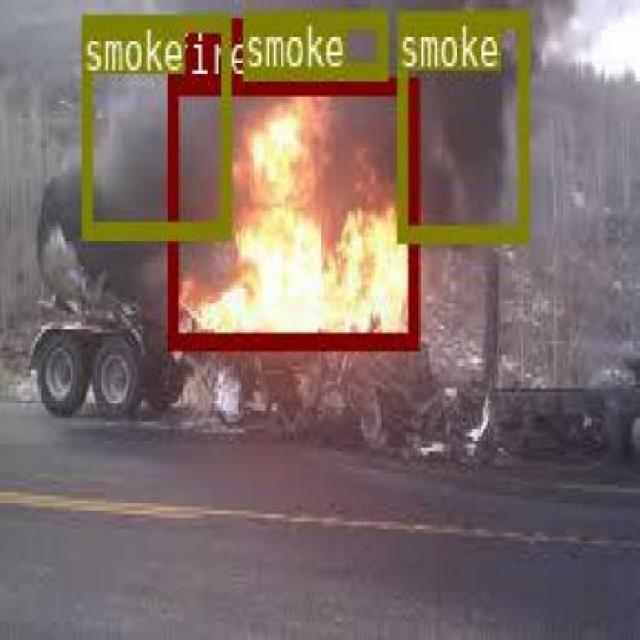fire: (166, 75, 417, 348)
smoke: (80, 12, 228, 234), (396, 7, 526, 240), (241, 8, 385, 76)
